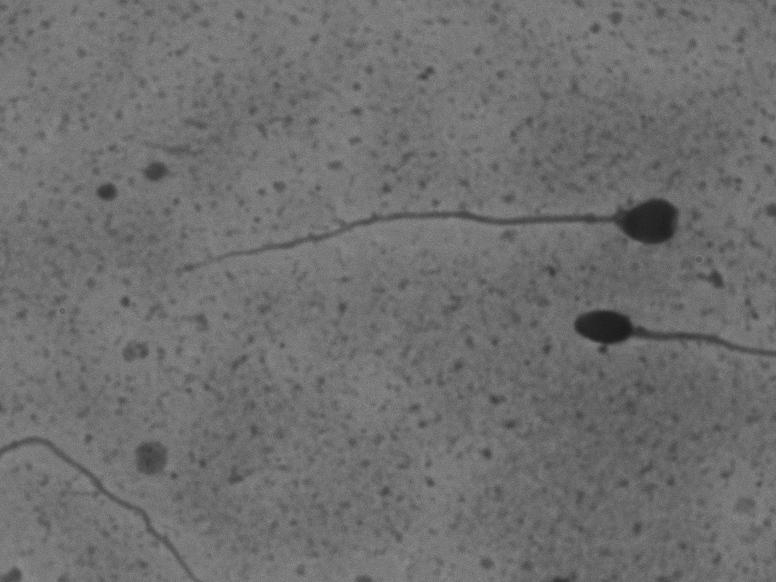Abnormal: (175, 122, 702, 292)
